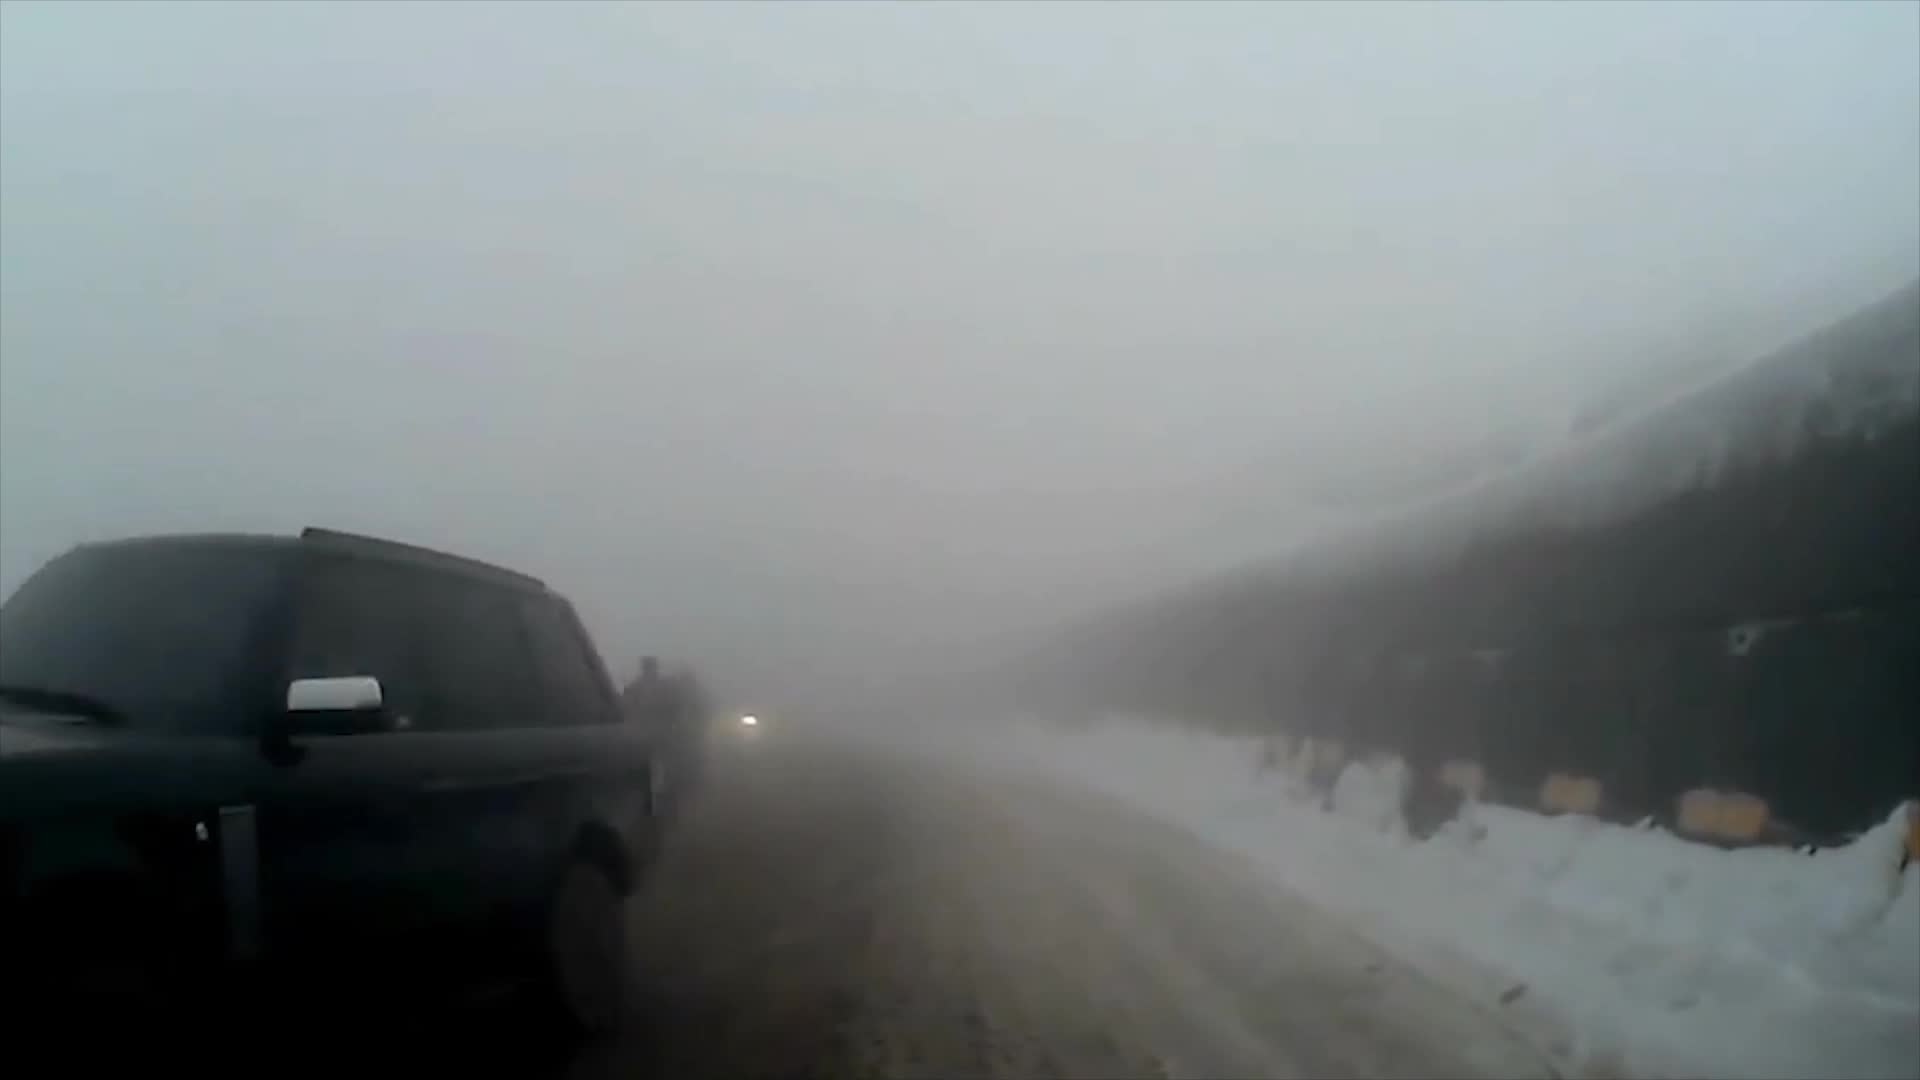pedestrian: (542, 661, 629, 838)
vehicle: (0, 524, 665, 1080)
